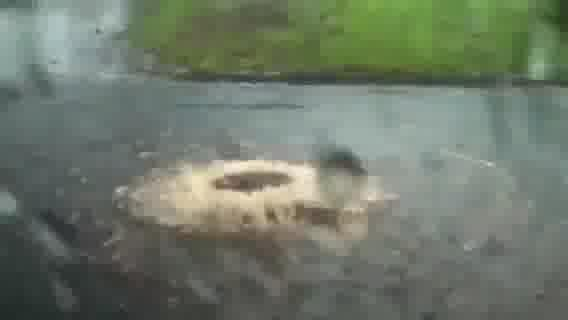drainage_overflow: (124, 155, 358, 239)
